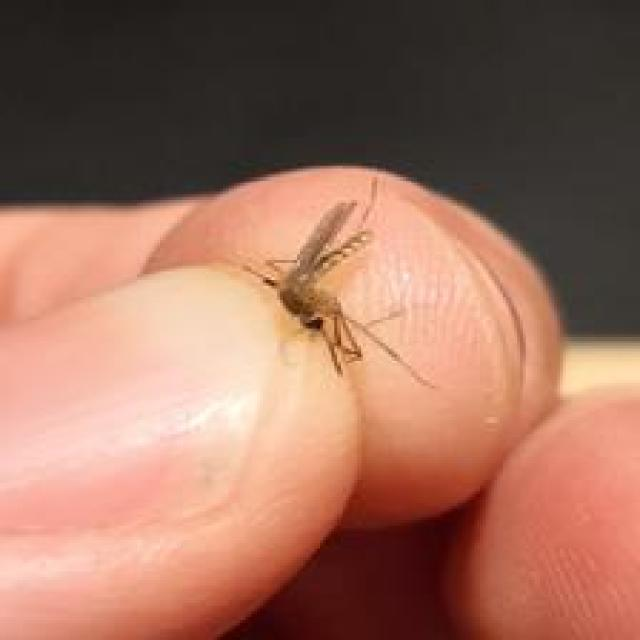Culex: (241, 195, 436, 392)
